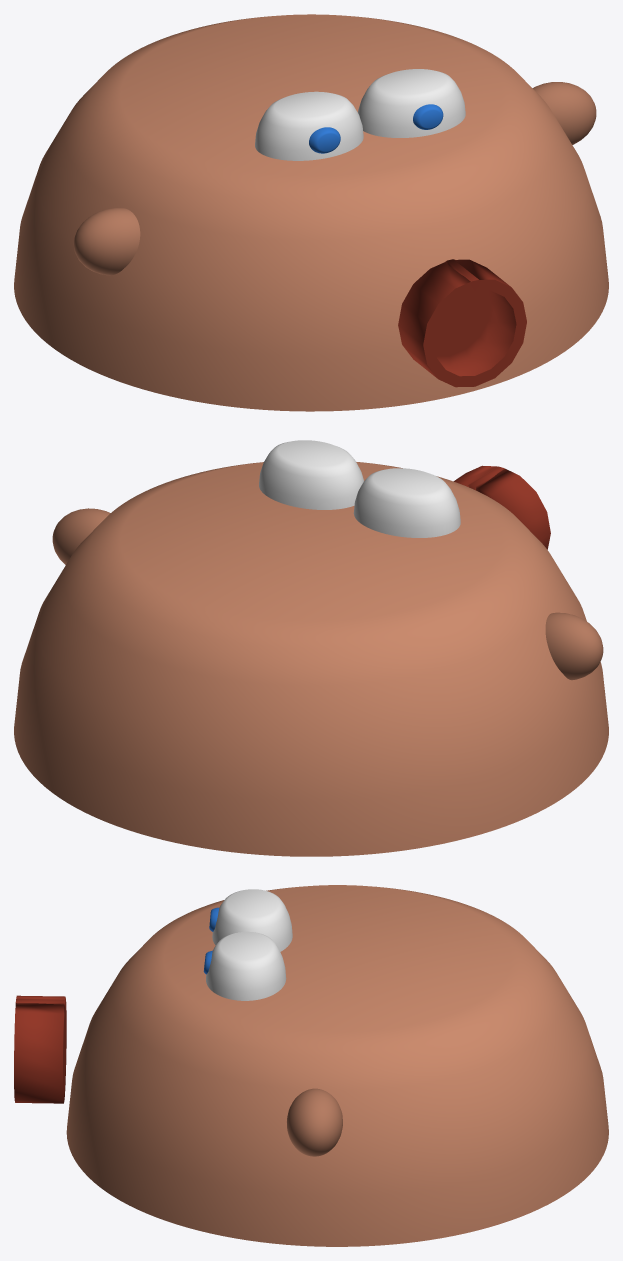
File: avatar.glb
3 views of the same model, one above another, from view 1: azimuth 30°, elevation 25°; view 2: azimuth 150°, elevation 25°; view 3: azimuth 270°, elevation 25° (orthographic). The views are drawn at different scales.
Parts seen in each view (by area): view 1: Face, Mouth, L_eye, R_eye, L_ear, R_ear, L_pupil, R_pupil; view 2: Face, L_eye, R_eye, Mouth, L_ear, R_ear; view 3: Face, Mouth, R_eye, L_eye, R_ear.
Part boxes in pixels (left/top/right/bottom): Face: left=14, top=14, right=608, bottom=411; Mouth: left=398, top=259, right=526, bottom=387; L_eye: left=255, top=91, right=363, bottom=160; R_eye: left=358, top=69, right=465, bottom=137; L_ear: left=73, top=208, right=140, bottom=275; R_ear: left=532, top=82, right=596, bottom=144; L_pupil: left=309, top=127, right=340, bottom=153; R_pupil: left=413, top=104, right=443, bottom=129; Face: left=14, top=462, right=608, bottom=856; L_eye: left=353, top=468, right=460, bottom=537; R_eye: left=259, top=440, right=363, bottom=509; Mouth: left=453, top=465, right=550, bottom=549; L_ear: left=545, top=612, right=603, bottom=680; R_ear: left=52, top=508, right=110, bottom=564; Face: left=66, top=885, right=608, bottom=1246; Mouth: left=14, top=995, right=66, bottom=1103; R_eye: left=206, top=931, right=286, bottom=1000; L_eye: left=212, top=889, right=292, bottom=951; R_ear: left=287, top=1088, right=342, bottom=1156.
Bounding box in the file's own units: 2.06 × 0.8487 × 2.19.
